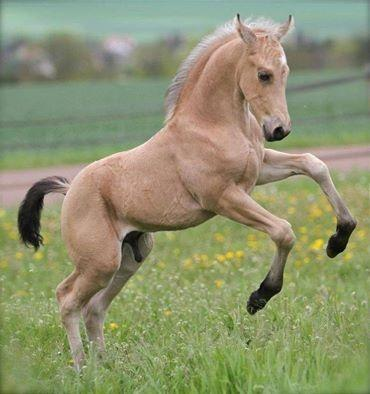horse: (16, 12, 357, 375)
